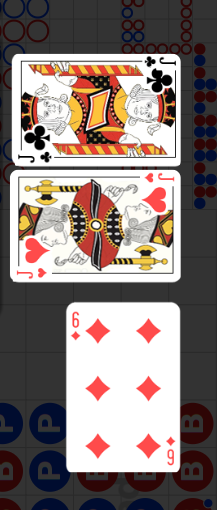6D: (164, 435, 176, 467), (70, 311, 81, 342)
JC: (17, 150, 54, 166)
